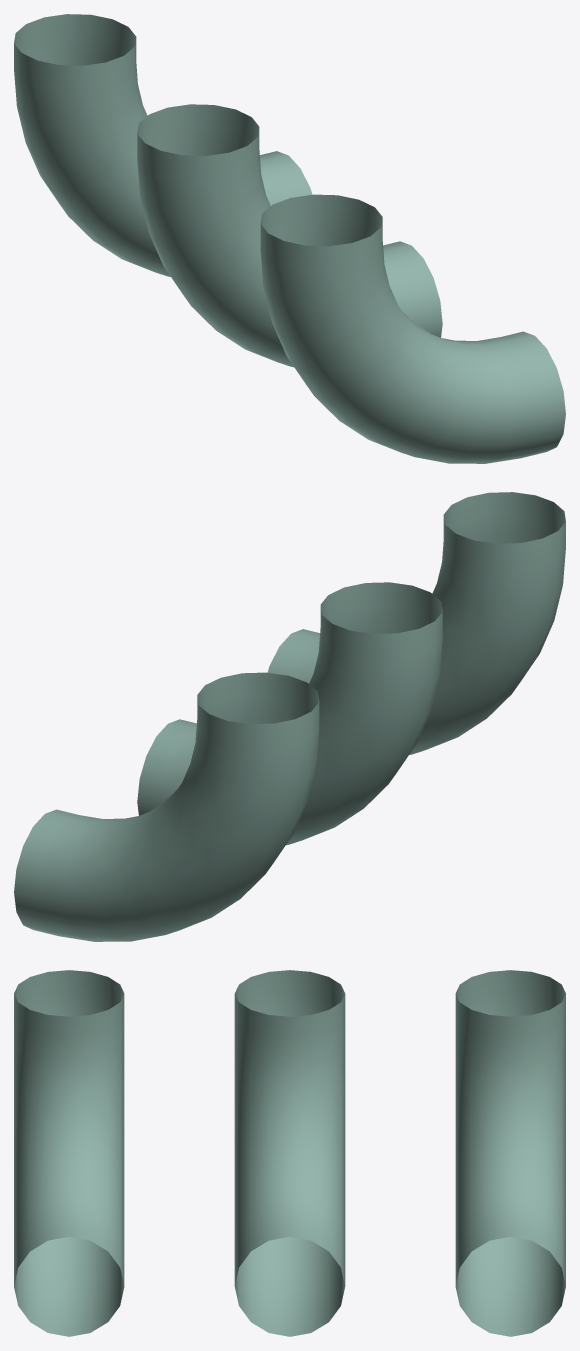
File: PipeComplexLarge_A3_01.fbx
The picture shows the model from 3 angles, top to bottom: view 1: azimuth 30°, elevation 25°; view 2: azimuth 150°, elevation 25°; view 3: azimuth 270°, elevation 25°; orthographic projection. The views are drawn at different scales.
Parts seen in each view (by area): view 1: PipeComplexLarge_A3_01.001; view 2: PipeComplexLarge_A3_01.001; view 3: PipeComplexLarge_A3_01.001.
Boxes of the visible parts, x1,y1,x2,y2 form: PipeComplexLarge_A3_01.001: (14, 14, 565, 463); PipeComplexLarge_A3_01.001: (14, 492, 565, 941); PipeComplexLarge_A3_01.001: (14, 970, 565, 1336).
Size of the model in its own units: 0.5 by 0.5 by 1.
